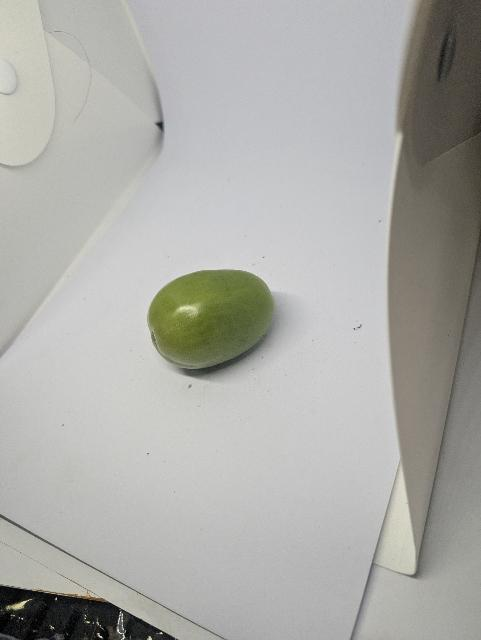green: (140, 258, 285, 386)
